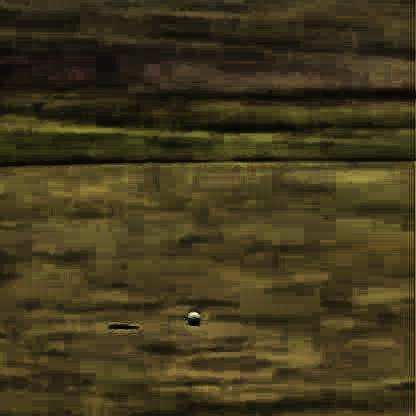golfball: (184, 307, 197, 320)
